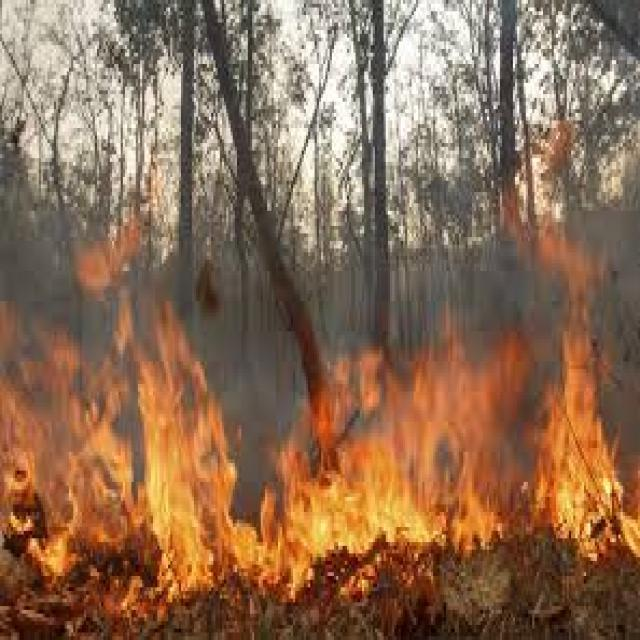Fire: (8, 314, 238, 601), (272, 364, 502, 558), (515, 222, 640, 550)
